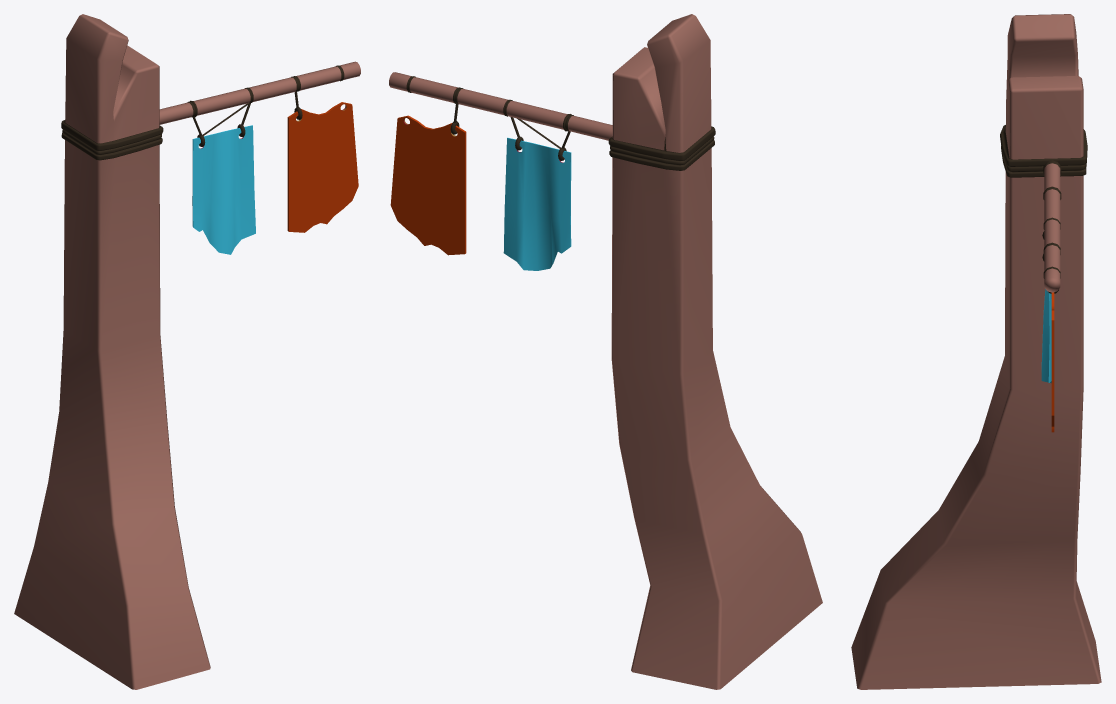
The model's file is SM_colonna-teli1.fbx.
3 renders of one model, left to right at view 1: azimuth 30°, elevation 25°; view 2: azimuth 150°, elevation 25°; view 3: azimuth 270°, elevation 25°, orthographic. The views are drawn at different scales.
Visible parts, largest first — view 1: polySurface53; view 2: polySurface53; view 3: polySurface53.
Part boxes in pixels (bbox=[...]): polySurface53: bbox=[14, 14, 360, 689]; polySurface53: bbox=[389, 14, 822, 689]; polySurface53: bbox=[851, 14, 1101, 689].
Size of the model in its own units: 394 by 683 by 236.
